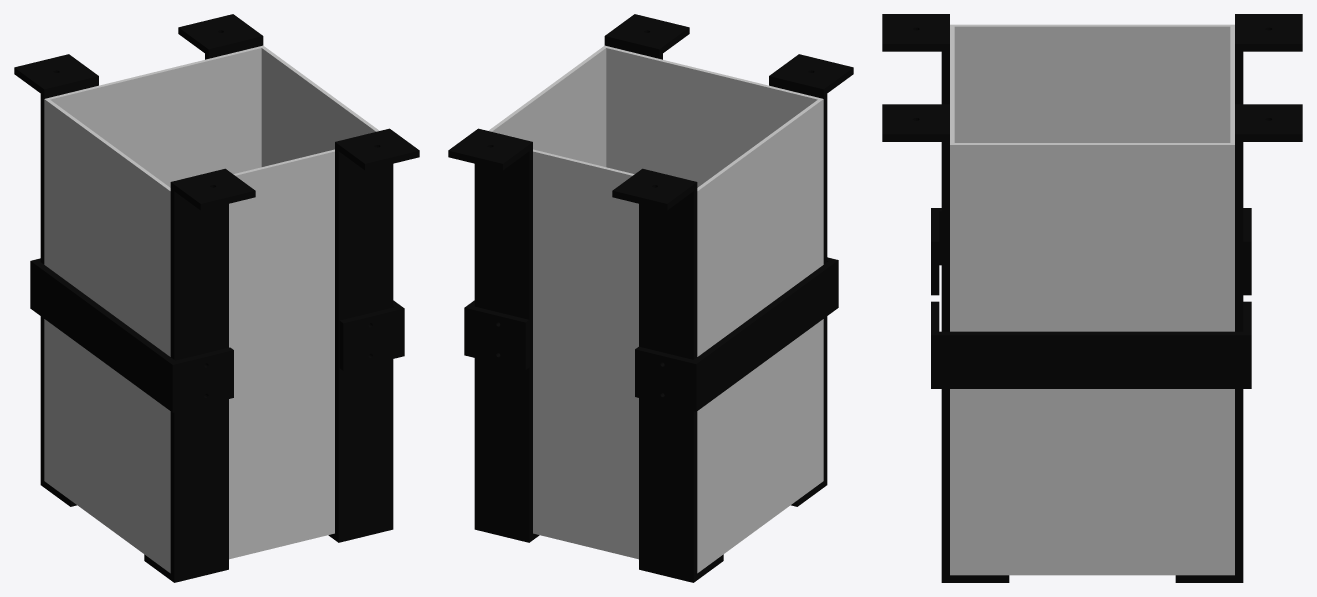
Rendered from water_link.dae.
3 views of the same model, side by side, from view 1: azimuth 30°, elevation 25°; view 2: azimuth 150°, elevation 25°; view 3: azimuth 270°, elevation 25° (orthographic). The views are drawn at different scales.
Parts seen in each view (by area): view 1: water_link; view 2: water_link; view 3: water_link.
Boxes of the visible parts, <box> form: water_link: <box>14,14,419,582</box>; water_link: <box>448,14,853,582</box>; water_link: <box>882,14,1302,582</box>.
Bounding box in the file's own units: 0.127 × 0.177 × 0.2085.
1 material, 1 textured.
